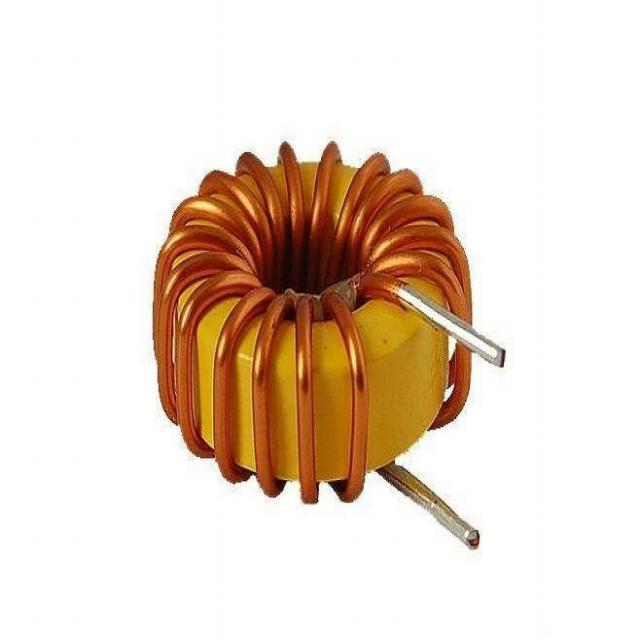Inductor: (154, 142, 504, 548)
